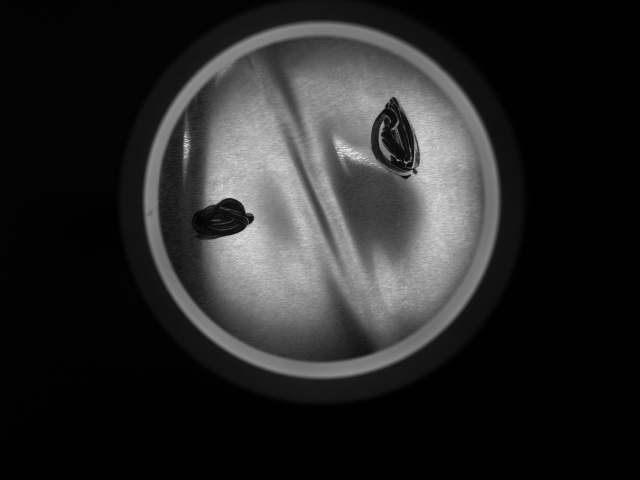zang_wu: (370, 93, 421, 182), (190, 194, 258, 245)
zhe_zhou: (201, 68, 442, 328)
